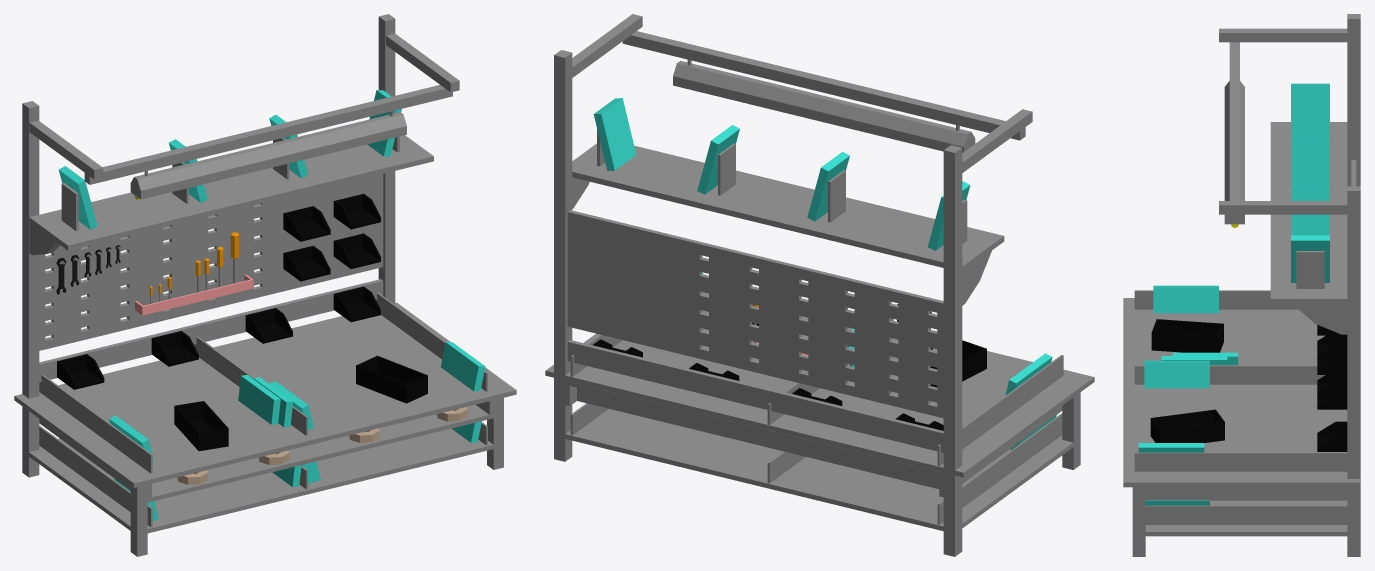
File: Prop_ArcadeRepairBench.FBX
3 renders of one model, left to right at view 1: azimuth 30°, elevation 25°; view 2: azimuth 150°, elevation 25°; view 3: azimuth 270°, elevation 25°, orthographic. The views are drawn at different scales.
Parts seen in each view (by area): view 1: ArcadeRepairBench; view 2: ArcadeRepairBench; view 3: ArcadeRepairBench.
Part boxes in pixels (<box>): ArcadeRepairBench: <box>14,14,516,556</box>; ArcadeRepairBench: <box>545,14,1094,556</box>; ArcadeRepairBench: <box>1123,14,1360,556</box>.
Size of the model in its own units: 155 by 143 by 84.
